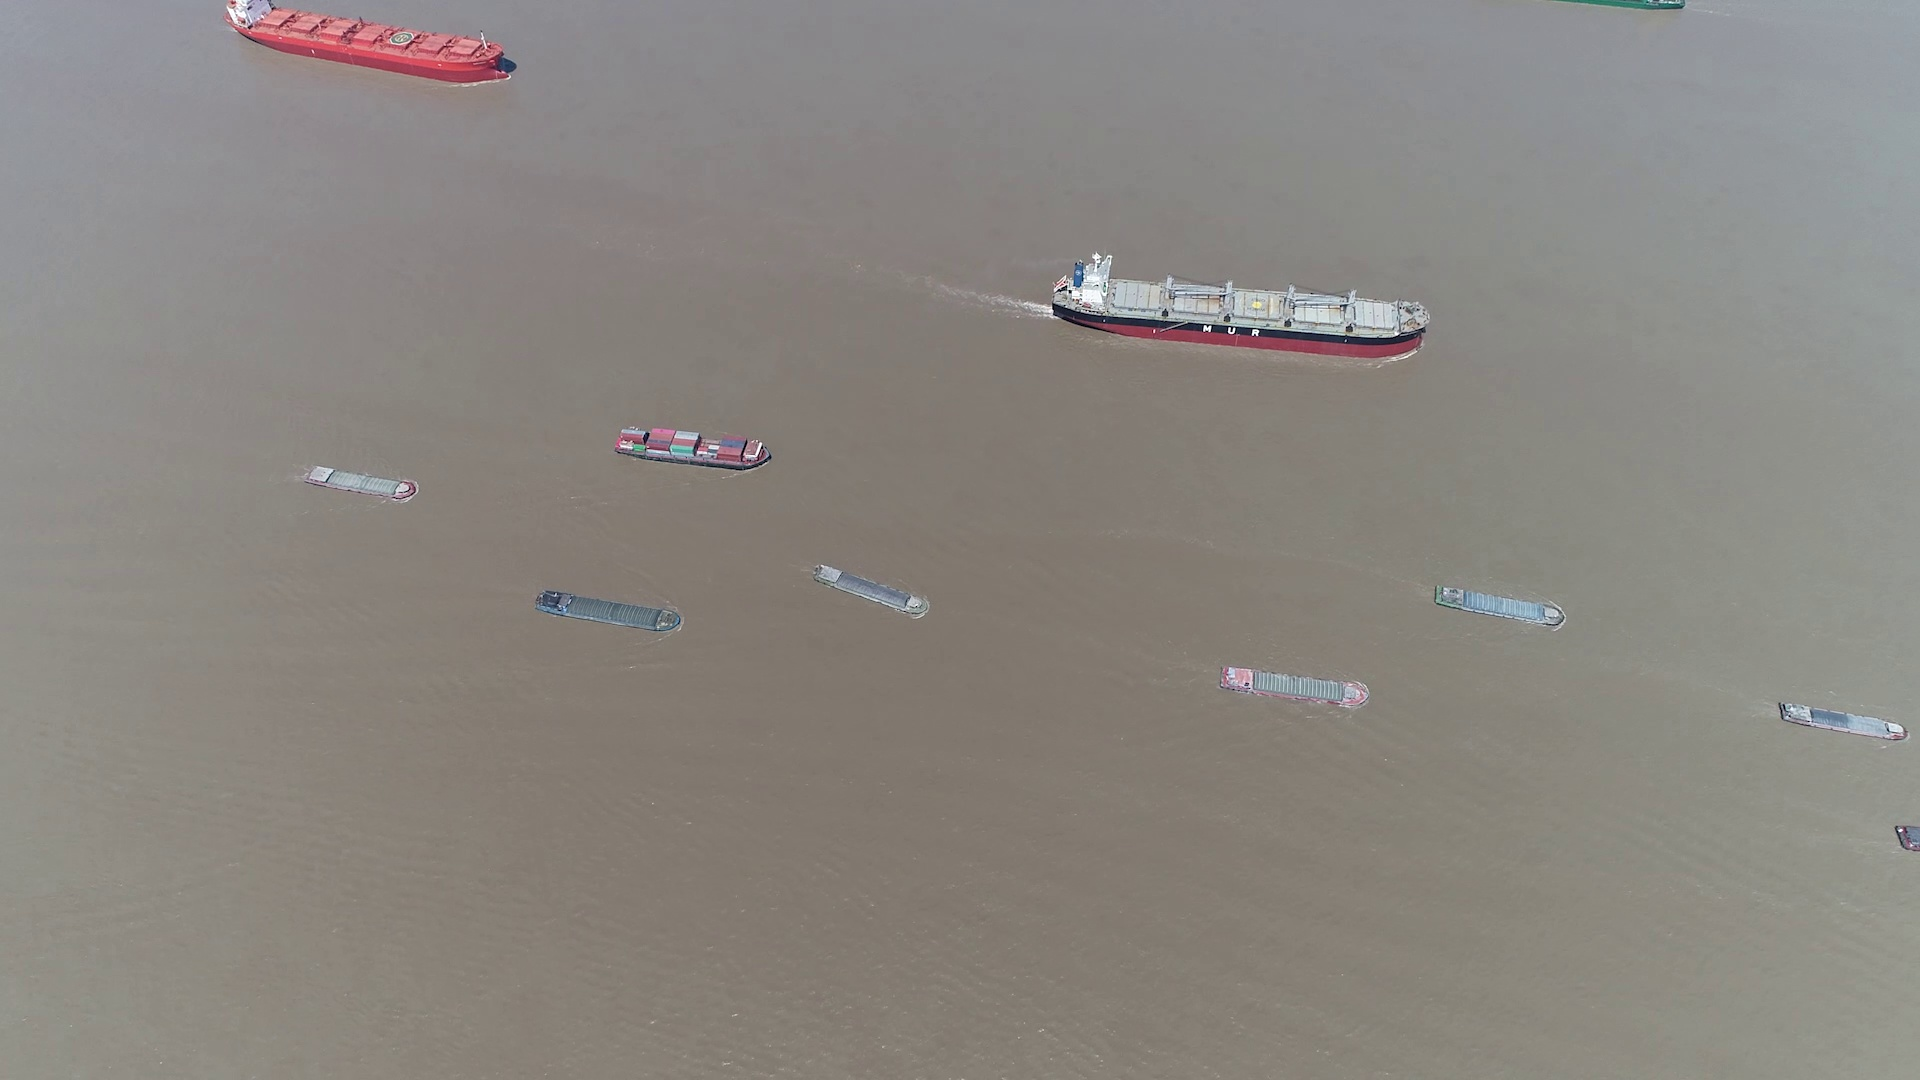ship: (1051, 256, 1432, 355), (225, 0, 516, 82), (615, 425, 771, 471), (533, 589, 686, 634), (1218, 665, 1371, 707), (814, 564, 927, 615), (1433, 585, 1567, 628), (1776, 702, 1904, 742), (305, 464, 417, 500), (1567, 0, 1683, 11), (1895, 825, 1920, 856)
